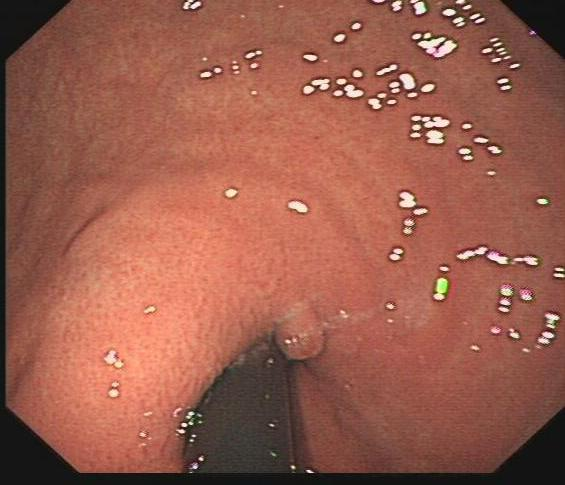Polyp: (274, 304, 332, 361)
